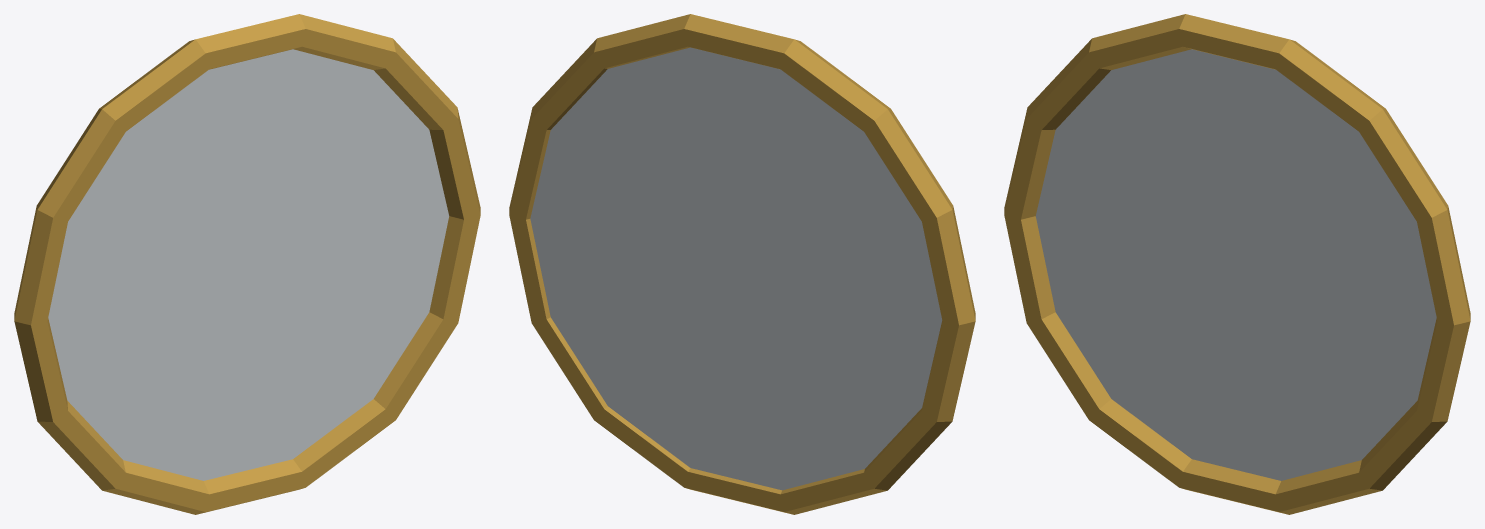
Rendered from SM_LPI_Bath_Mirror_01.fbx.
3 renders of one model, left to right at view 1: azimuth 30°, elevation 25°; view 2: azimuth 150°, elevation 25°; view 3: azimuth 330°, elevation 25°, orthographic.
Visible parts, largest first — view 1: SM_LPI_Bath_Mirror_01; view 2: SM_LPI_Bath_Mirror_01; view 3: SM_LPI_Bath_Mirror_01.
Part boxes in pixels (x1,y1,x2,y2): SM_LPI_Bath_Mirror_01: (14, 14, 480, 514); SM_LPI_Bath_Mirror_01: (509, 14, 975, 514); SM_LPI_Bath_Mirror_01: (1004, 14, 1470, 514).
Bounding box in the file's own units: 0.62 × 0.6045 × 0.0381.
